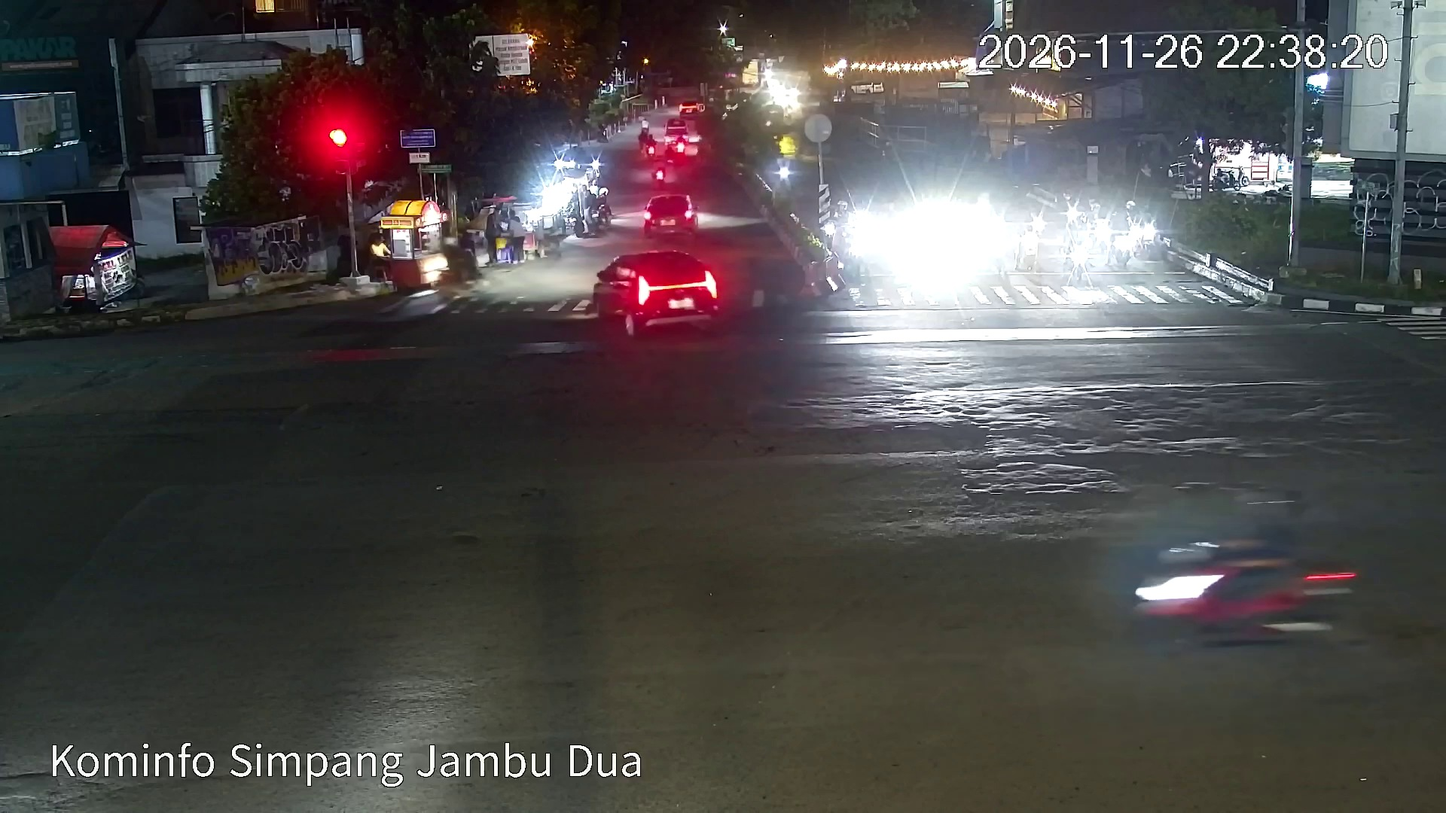Gerobak: (376, 198, 450, 289)
